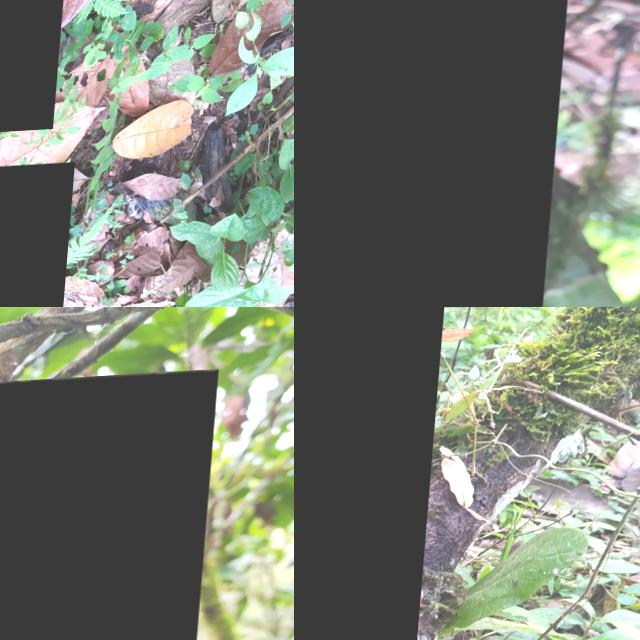Fitoftora: (0, 375, 219, 640)
Monilia: (294, 0, 578, 307), (294, 307, 446, 640), (0, 0, 68, 138)
Sana: (0, 166, 79, 307)
